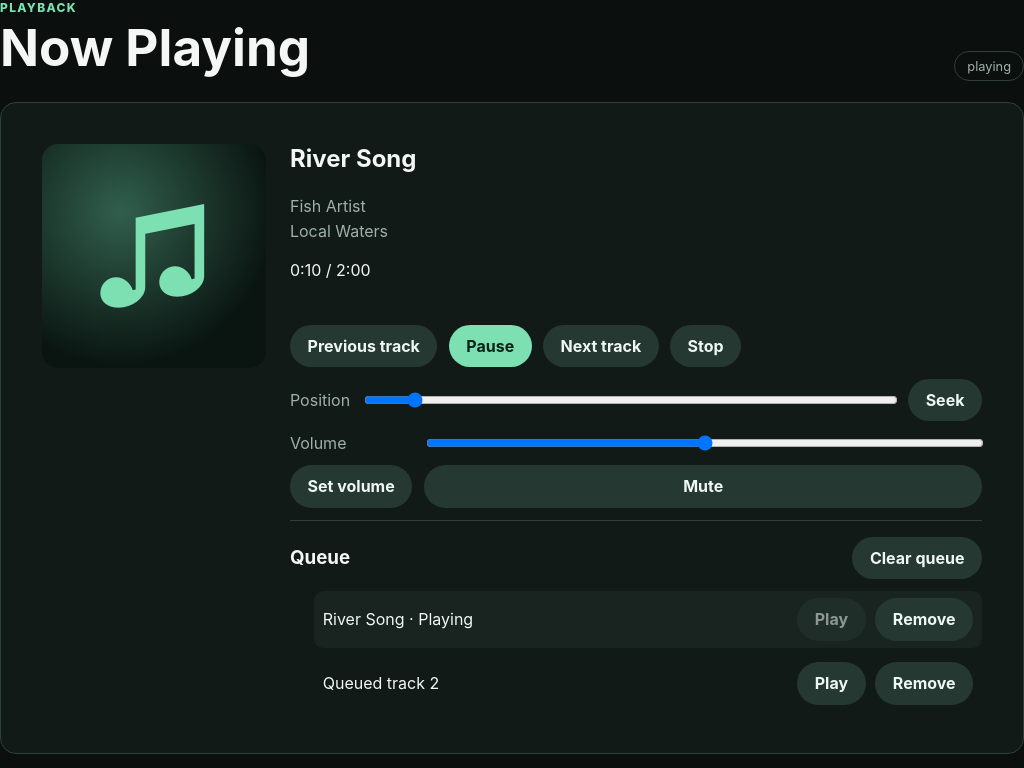
complete playback controls › replaces internal code-style messages with generic recovery copy
The image size is (1024, 768).
Click the button "Pause" at (490, 346), box top-left (449, 324), bottom-right (532, 367)
(page scrolled)
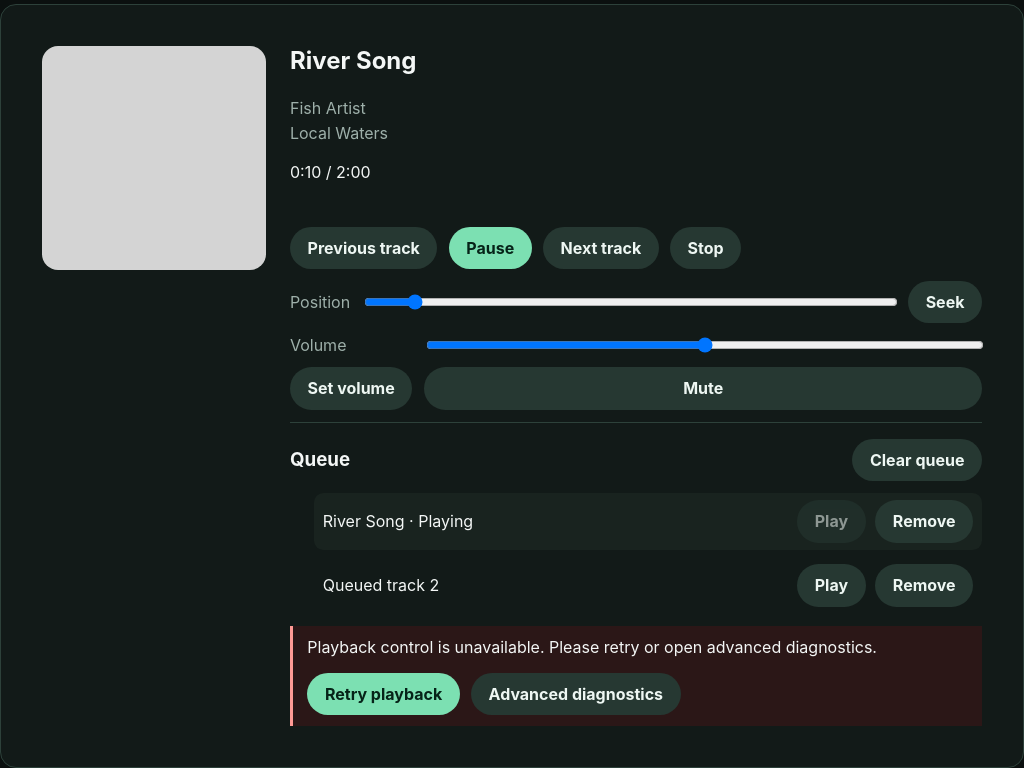
Result: the message shows "Playback control is unavailable" at top-left (307, 637), bottom-right (877, 657)
